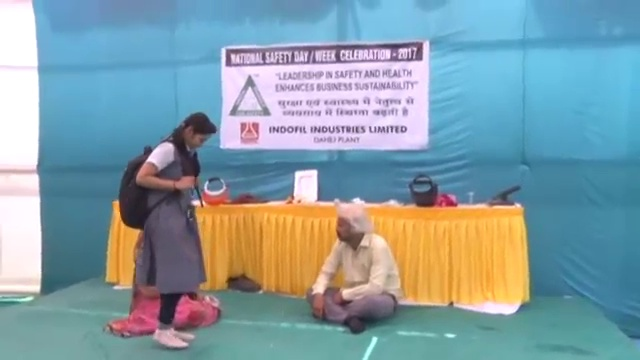helmet_off: (181, 112, 216, 152), (334, 207, 368, 248)
person: (118, 108, 219, 349), (303, 207, 403, 333)
